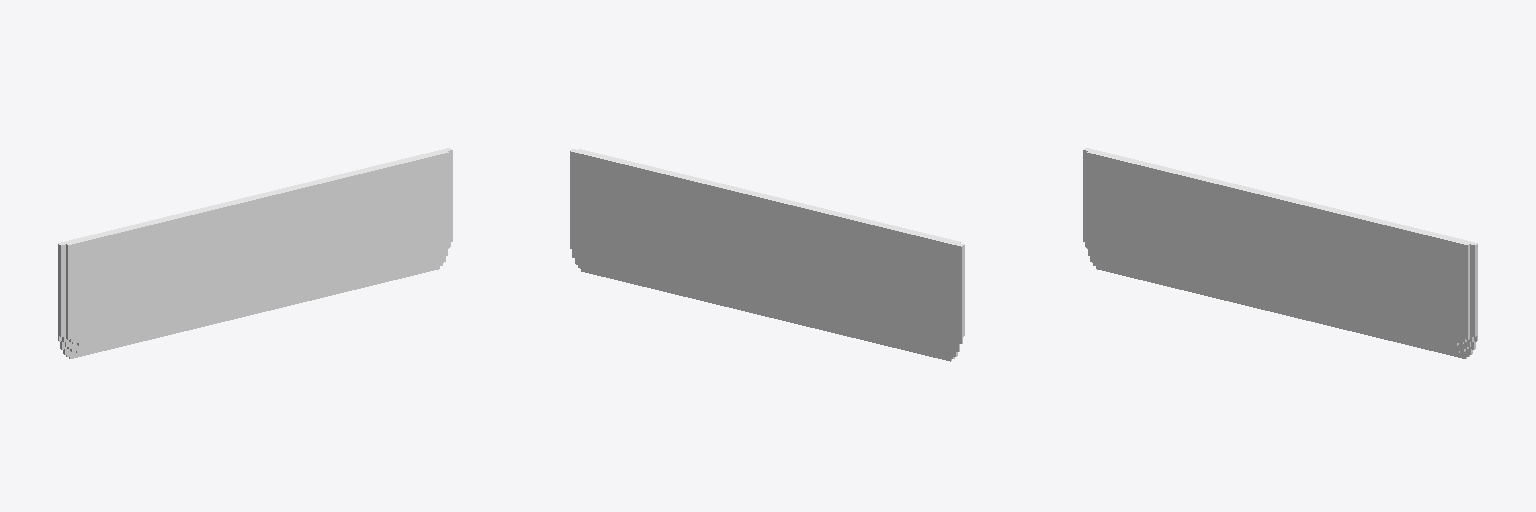
The model's file is pause-background-1.obj.
The picture shows the model from 3 angles: view 1: azimuth 30°, elevation 25°; view 2: azimuth 150°, elevation 25°; view 3: azimuth 330°, elevation 25°; orthographic projection.
Parts seen in each view (by area): view 1: object 1; view 2: object 1; view 3: object 1.
Part boxes in pixels (bbox=[...]): object 1: bbox=[58, 148, 452, 358]; object 1: bbox=[570, 149, 964, 361]; object 1: bbox=[1083, 148, 1477, 358].
Bounding box in the file's own units: 14.3 × 4.1 × 0.3.